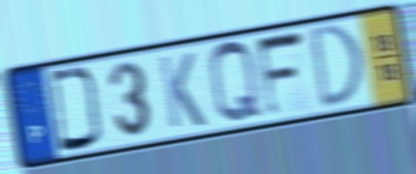3: (106, 59, 153, 141)
D: (308, 20, 367, 113), (46, 65, 105, 156)
F: (253, 26, 309, 122)
K: (156, 50, 209, 132)
Q: (206, 38, 266, 128)
